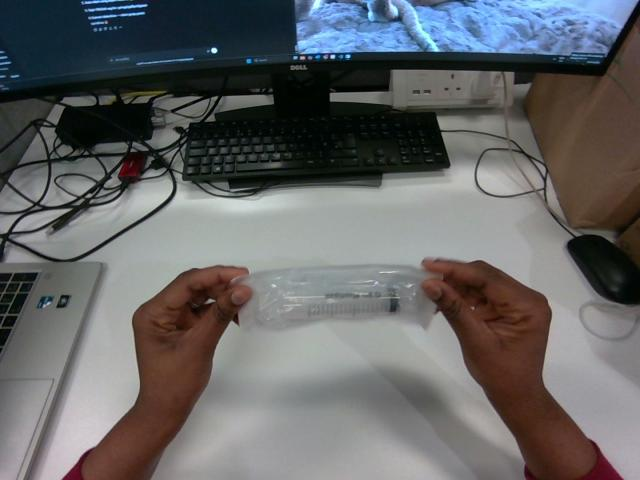syringe: (232, 265, 435, 329)
